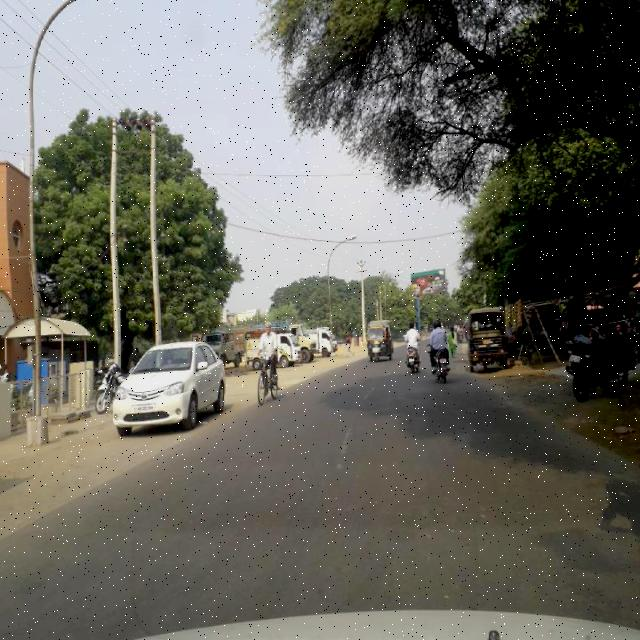D44: (334, 420, 356, 478)
